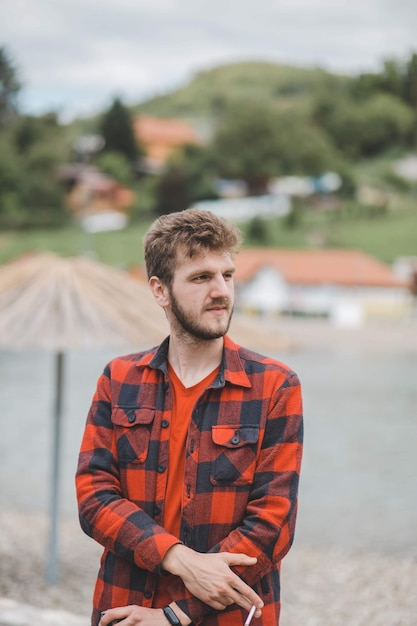cigarette: (242, 604, 257, 626)
